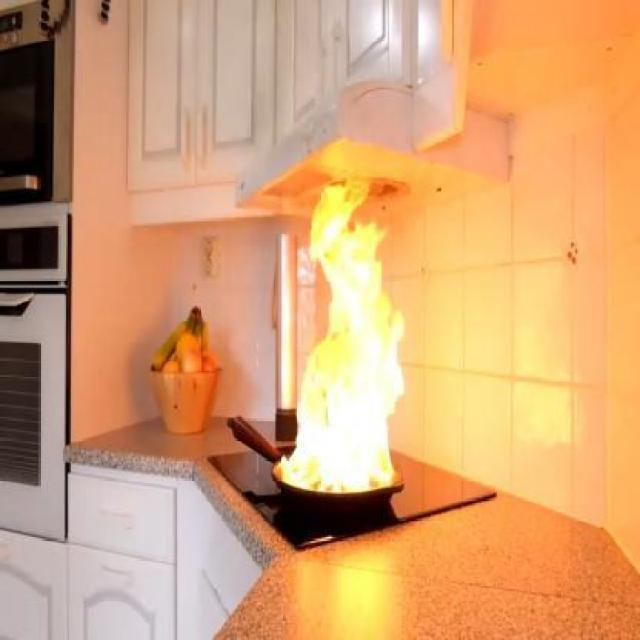fire: (279, 180, 404, 492)
